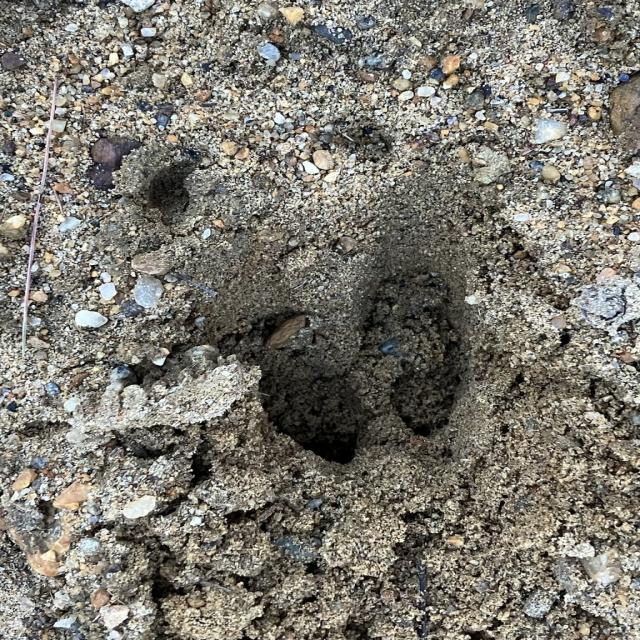deer: (242, 274, 472, 452)
